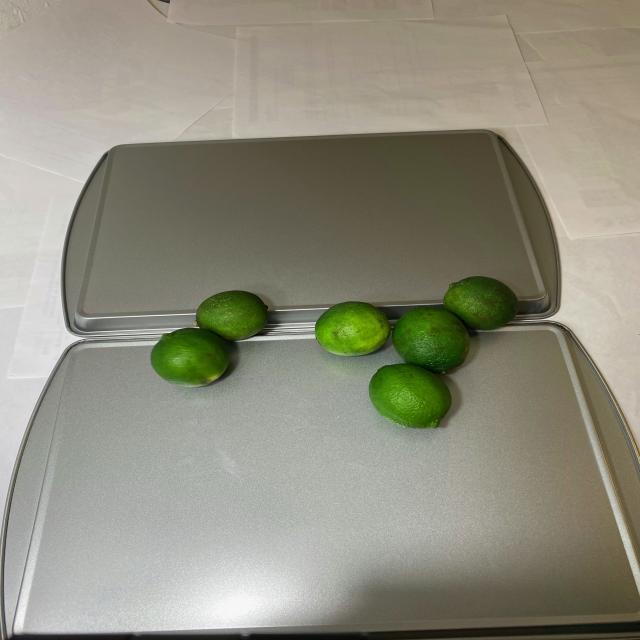lemon: (310, 275, 525, 434), (140, 286, 284, 397)
